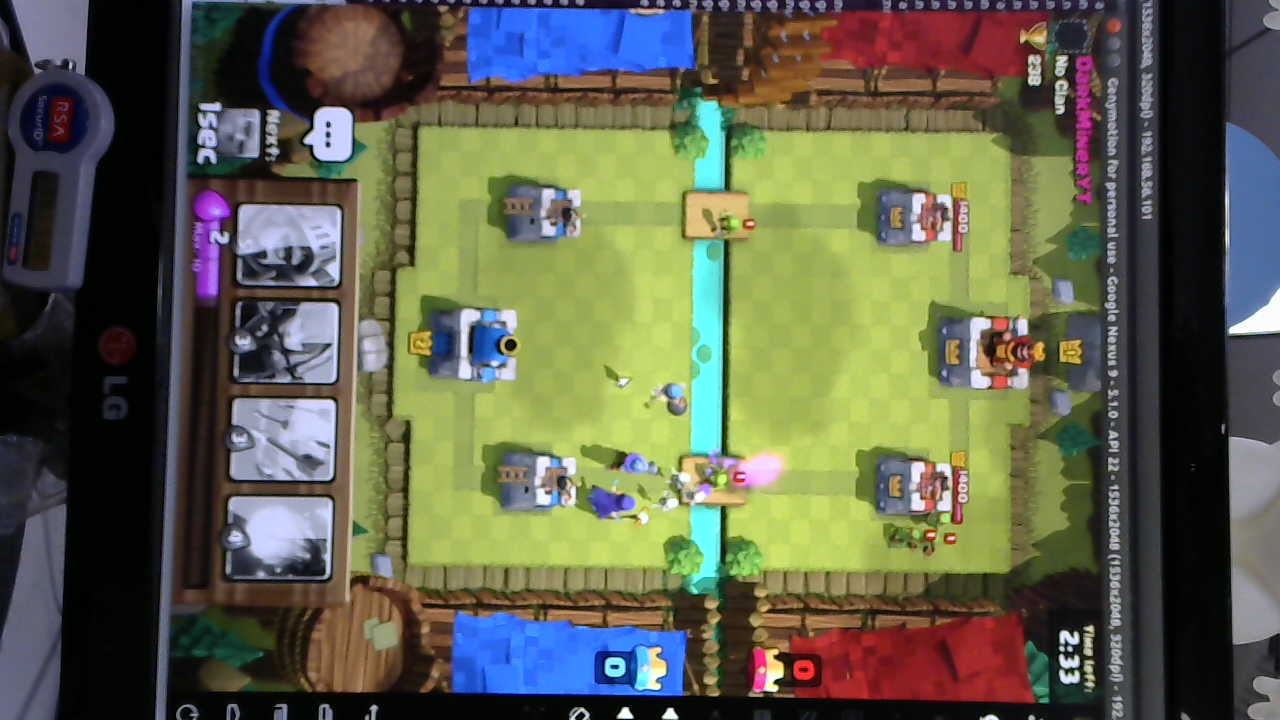arena: (499, 179, 585, 249), (493, 446, 573, 514)
bomb: (643, 381, 694, 416)
earena: (879, 456, 960, 521), (873, 185, 955, 247)
eking: (935, 311, 1045, 390)
goblin: (705, 201, 755, 244), (698, 461, 744, 496)
king: (428, 305, 523, 383)
musketeer: (611, 451, 660, 479)
skeleton: (661, 465, 707, 517)
speargoblins: (879, 510, 963, 554)
witch: (586, 487, 652, 524)
